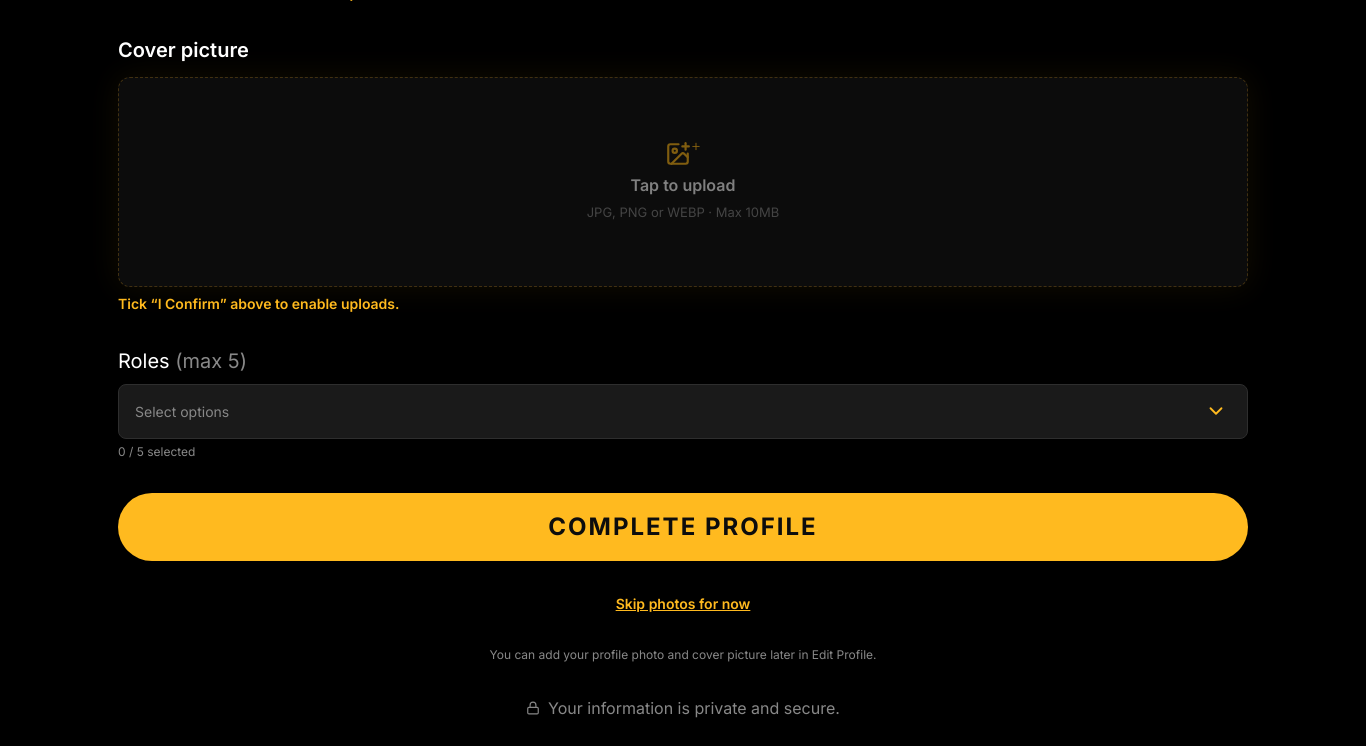
Test case: offers photo skipping and a searchable scrolling role list
(page scrolled)
Check: the button "Skip photos for now" is shown, box [616,592,750,614]
Step 1. Click the button named "Roles" → (1216, 411), box [1193,392,1239,430]
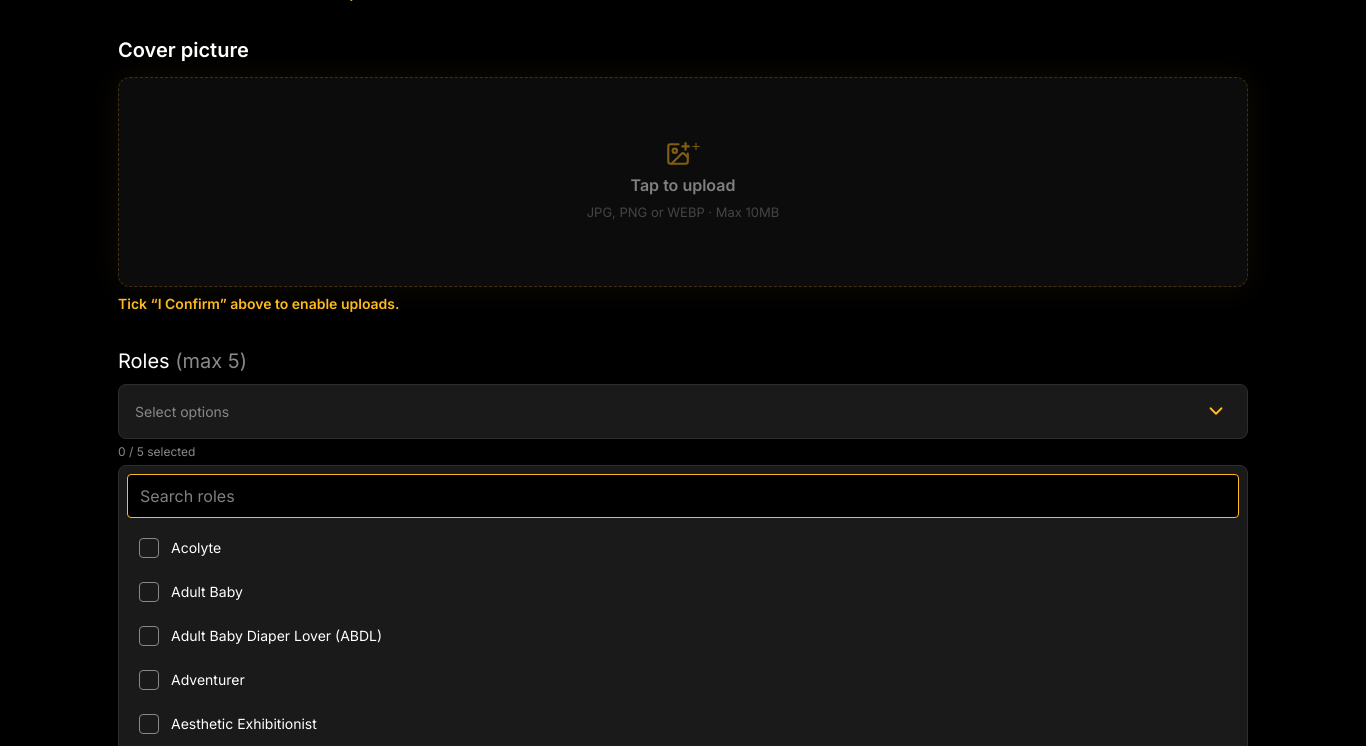
Step 2. Type "aftercare" into the search field labelled "Search roles" → (683, 496), box [127,474,1239,518]
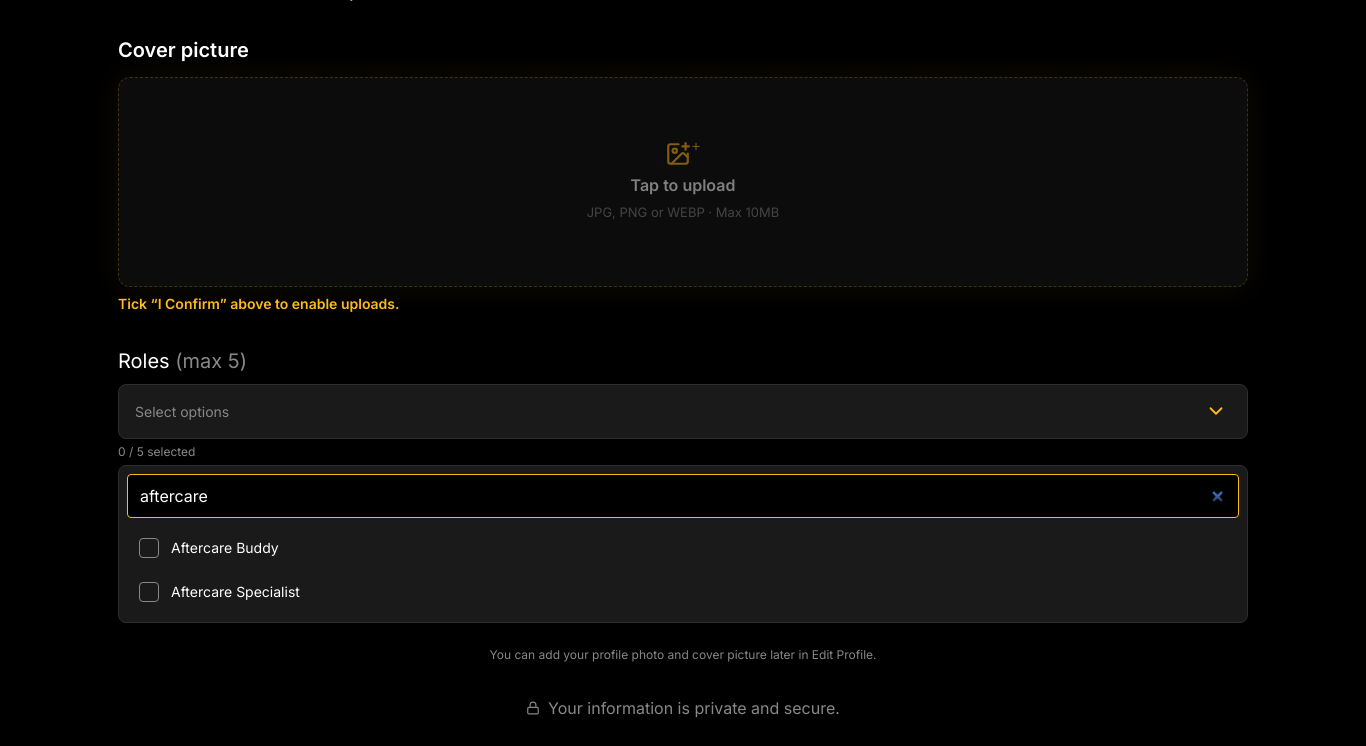
Check: the option "Aftercare Buddy" is shown, box [127,526,1239,570]
Check: the option "Aftercare Specialist" is shown, box [127,570,1239,614]
